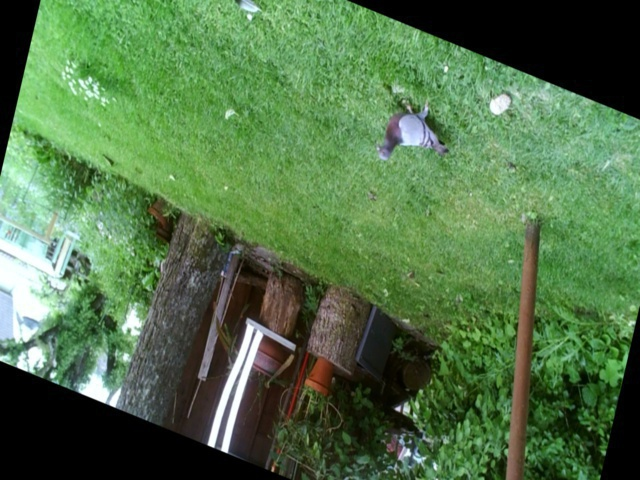Pigeon: (371, 95, 456, 166)
